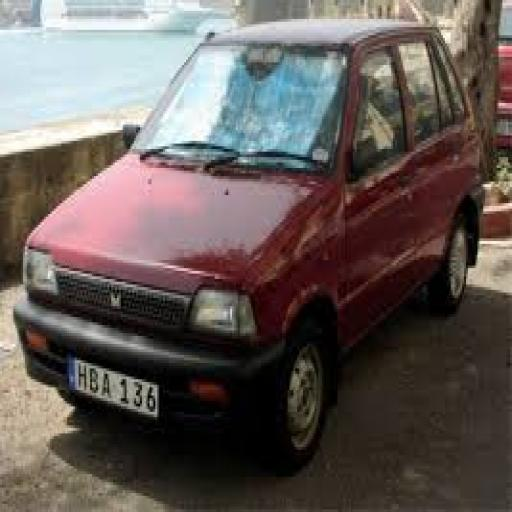License: (67, 348, 170, 422)
